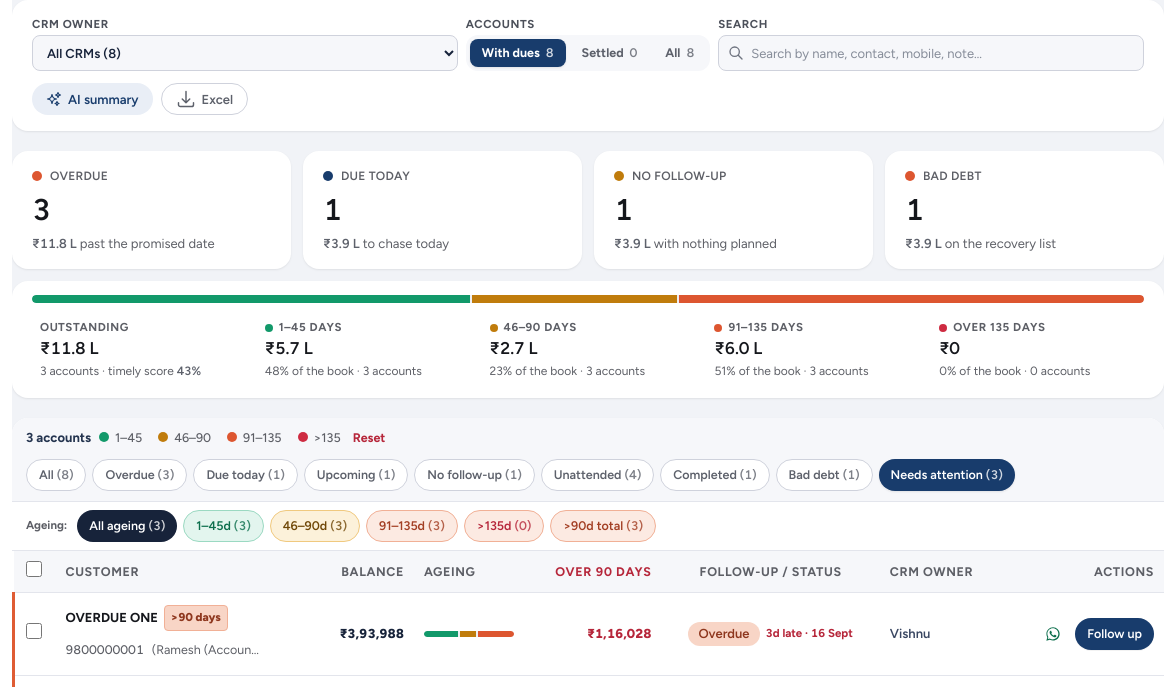
Test: Reports follows the filters it is handed › shows the "Needs attention" chip only while that list — the banner's — is open
Expected: the button "Needs attention (3)" is shown, [879,459,1015,491]
Click the button "All (8)" at (56, 475), box [26,459,86,491]
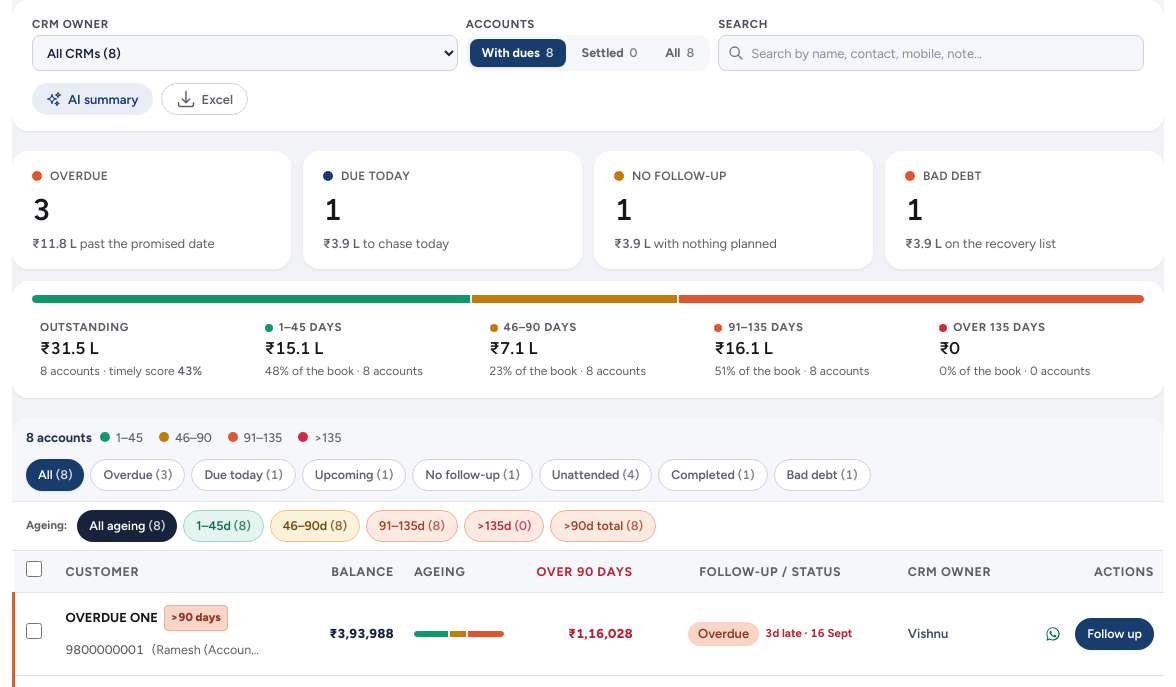
Now the button "Needs attention" is gone
